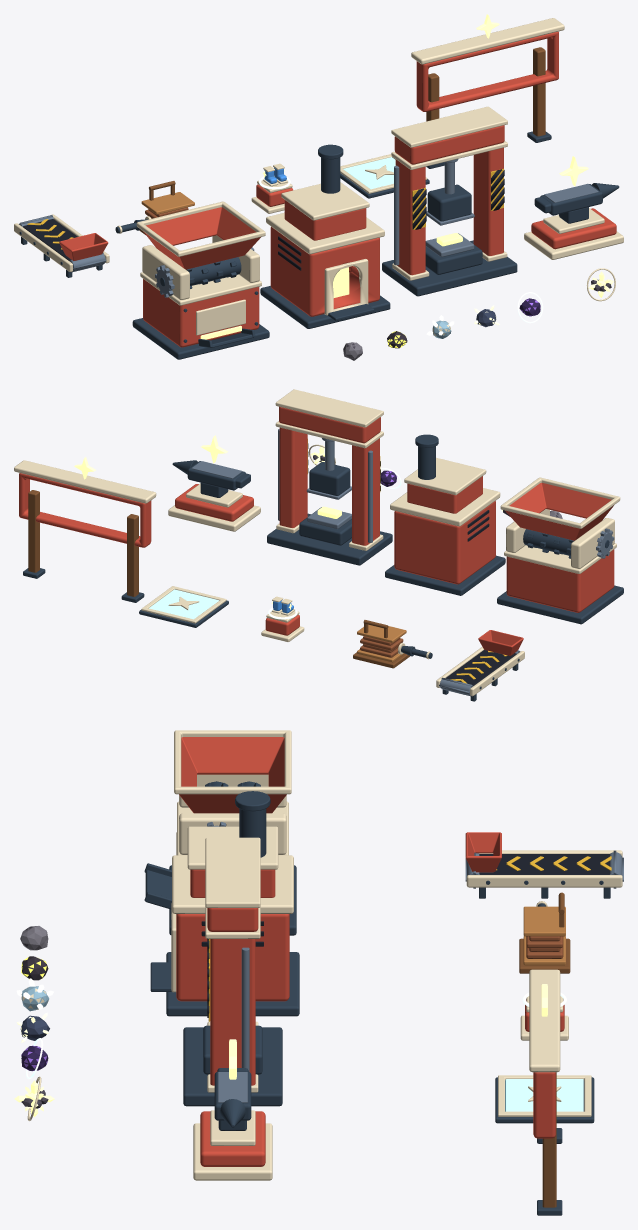
File: SF_Models.fbx
The picture shows the model from 3 angles, top to bottom: view 1: azimuth 30°, elevation 25°; view 2: azimuth 150°, elevation 25°; view 3: azimuth 270°, elevation 25°; orthographic projection. The views are drawn at different scales.
Visible parts, largest first — view 1: Forge__Pillars__Red, Crusher__Trim__Cream, Smelter__Body__Red, Smelter__Trim__Cream, Crusher__Hopper__Red, Crusher__Body__Red, Forge__Trim__Cream, Sign__Frame__Red, Forge__Base__Steel, Sign__Cap__Cream, StarAnvil__Pedestal__Cream, Forge__Hammer__Steel (+20 smaller); view 2: Forge__Pillars__Red, Smelter__Body__Red, Crusher__Body__Red, Crusher__Trim__Cream, Crusher__Hopper__Red, Smelter__Trim__Cream, Forge__Trim__Cream, Sign__Frame__Red, Forge__Base__Steel, Sign__Cap__Cream, Sign__Posts__WoodDark, StarAnvil__Pedestal__Cream (+21 smaller); view 3: Forge__Pillars__Red, Crusher__Hopper__Red, Smelter__Body__Red, Crusher__Trim__Cream, Smelter__Trim__Cream, Forge__Trim__Cream, Forge__Base__Steel, Sign__Cap__Cream, StarAnvil__Pedestal__Cream, Conveyor__Frame__Cream, StarAnvil__PedestalRed__Red, Conveyor__Belt__Dark (+17 smaller).
Boxes of the visible parts, bbox=[...] form: Forge__Pillars__Red: bbox=[394, 125, 504, 275]; Crusher__Trim__Cream: bbox=[136, 201, 265, 335]; Smelter__Body__Red: bbox=[270, 226, 379, 316]; Smelter__Trim__Cream: bbox=[266, 182, 384, 315]; Crusher__Hopper__Red: bbox=[143, 207, 260, 269]; Crusher__Body__Red: bbox=[143, 279, 259, 347]; Forge__Trim__Cream: bbox=[391, 106, 507, 280]; Sign__Frame__Red: bbox=[416, 31, 558, 111]; Forge__Base__Steel: bbox=[382, 240, 517, 296]; Sign__Cap__Cream: bbox=[411, 18, 564, 64]; StarAnvil__Pedestal__Cream: bbox=[524, 208, 623, 259]; Forge__Hammer__Steel: bbox=[426, 162, 474, 225]; Forge__Pillars__Red: bbox=[279, 406, 380, 545]; Smelter__Body__Red: bbox=[394, 501, 495, 584]; Crusher__Body__Red: bbox=[506, 549, 614, 612]; Crusher__Trim__Cream: bbox=[500, 477, 620, 573]; Crusher__Hopper__Red: bbox=[505, 483, 613, 540]; Smelter__Trim__Cream: bbox=[390, 457, 500, 526]; Forge__Trim__Cream: bbox=[275, 389, 383, 550]; Sign__Frame__Red: bbox=[19, 473, 151, 547]; Forge__Base__Steel: bbox=[267, 513, 392, 565]; Sign__Cap__Cream: bbox=[14, 460, 156, 503]; Sign__Posts__WoodDark: bbox=[28, 490, 138, 596]; StarAnvil__Pedestal__Cream: bbox=[168, 483, 260, 531]; Forge__Pillars__Red: bbox=[207, 908, 258, 1085]; Crusher__Hopper__Red: bbox=[179, 737, 286, 813]; Smelter__Body__Red: bbox=[176, 914, 289, 1001]; Crusher__Trim__Cream: bbox=[174, 730, 291, 855]; Smelter__Trim__Cream: bbox=[171, 826, 293, 992]; Forge__Trim__Cream: bbox=[205, 837, 260, 1092]; Forge__Base__Steel: bbox=[183, 1027, 282, 1106]; Sign__Cap__Cream: bbox=[529, 969, 560, 1072]; StarAnvil__Pedestal__Cream: bbox=[193, 1110, 272, 1180]; Conveyor__Frame__Cream: bbox=[466, 850, 622, 887]; StarAnvil__PedestalRed__Red: bbox=[200, 1111, 265, 1166]; Conveyor__Belt__Dark: bbox=[479, 854, 610, 874].
Size of the model in its own units: 58.46 by 15.83 by 43.04.
